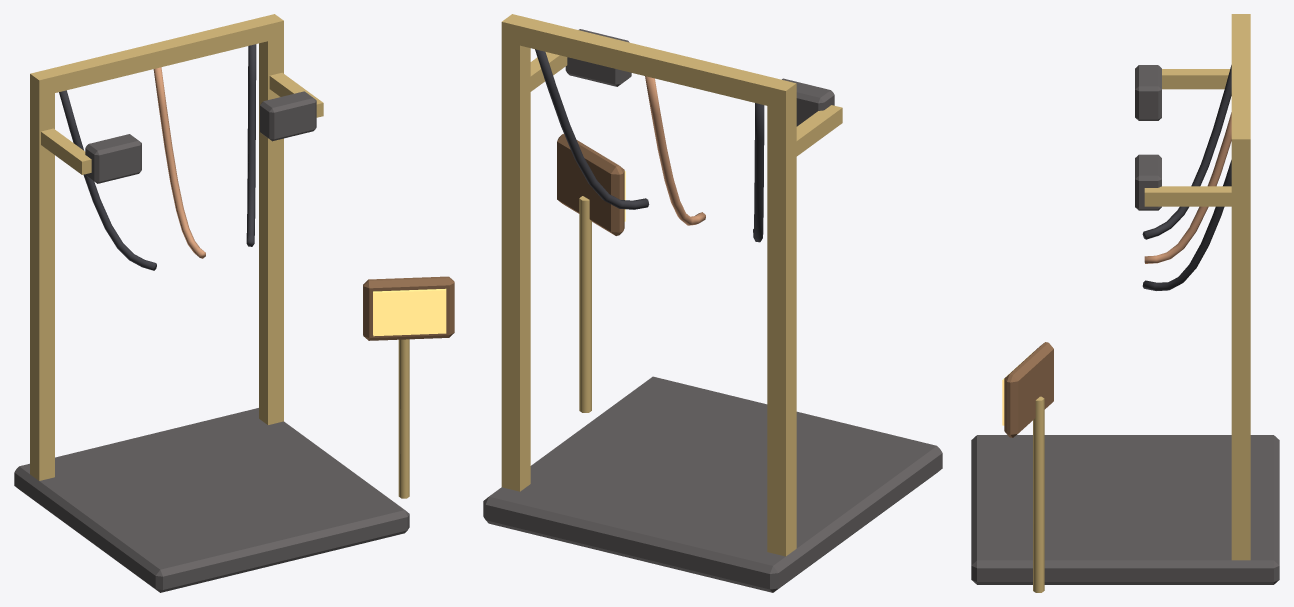
Rendered from hm_cradle.glb.
The picture shows the model from 3 angles, left to right: view 1: azimuth 30°, elevation 25°; view 2: azimuth 150°, elevation 25°; view 3: azimuth 270°, elevation 25°; orthographic projection. The views are drawn at different scales.
Visible parts, largest first — view 1: hm_cradle; view 2: hm_cradle; view 3: hm_cradle.
Part boxes in pixels (x1,y1,x2,y2): hm_cradle: (14, 14, 454, 592); hm_cradle: (483, 14, 942, 592); hm_cradle: (971, 14, 1279, 592).
Bounding box in the file's own units: 1.98 × 2.55 × 1.6.
